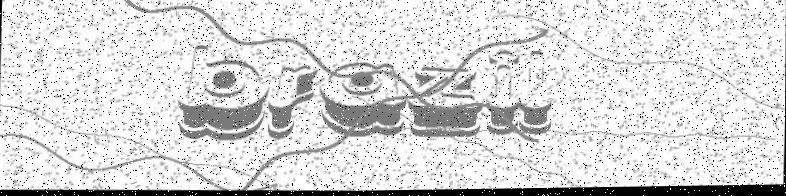a: (318, 60, 407, 139)
b: (174, 41, 273, 144)
i: (486, 50, 520, 137)
l: (518, 50, 556, 139)
r: (267, 61, 318, 141)
z: (407, 66, 485, 142)
